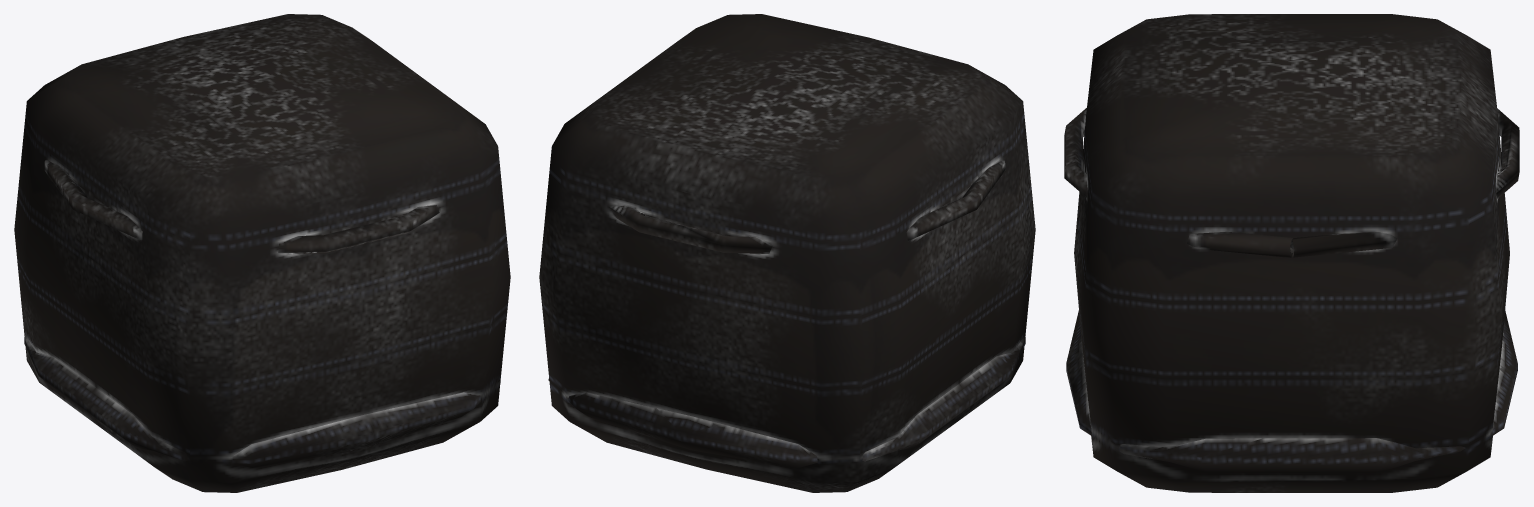
The model's file is MatonImp_MangaAbajoIzq.fbx.
The picture shows the model from 3 angles, left to right: view 1: azimuth 30°, elevation 25°; view 2: azimuth 150°, elevation 25°; view 3: azimuth 270°, elevation 25°; orthographic projection. The views are drawn at different scales.
Parts seen in each view (by area): view 1: MatonImp_MangaAbajoIzq; view 2: MatonImp_MangaAbajoIzq; view 3: MatonImp_MangaAbajoIzq.
Part boxes in pixels (x1=…): MatonImp_MangaAbajoIzq: x1=14, y1=14, x2=510, y2=492; MatonImp_MangaAbajoIzq: x1=539, y1=14, x2=1035, y2=492; MatonImp_MangaAbajoIzq: x1=1064, y1=14, x2=1519, y2=492.
Size of the model in its own units: 1.42 by 1.19 by 1.38.
